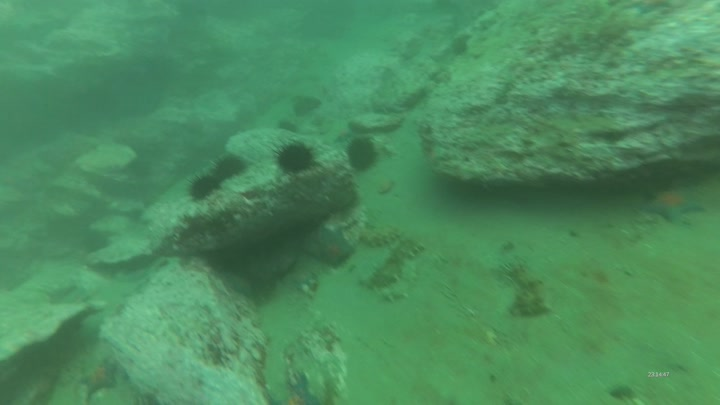echinus: (274, 139, 317, 176), (346, 136, 380, 173), (213, 154, 248, 183), (187, 174, 220, 201), (279, 121, 298, 134)
holothurian: (369, 238, 427, 289), (369, 225, 406, 247)
starfish: (643, 188, 702, 224), (76, 358, 123, 399), (319, 229, 355, 268), (286, 375, 319, 405), (226, 275, 253, 299), (634, 1, 672, 15), (451, 36, 472, 57)
